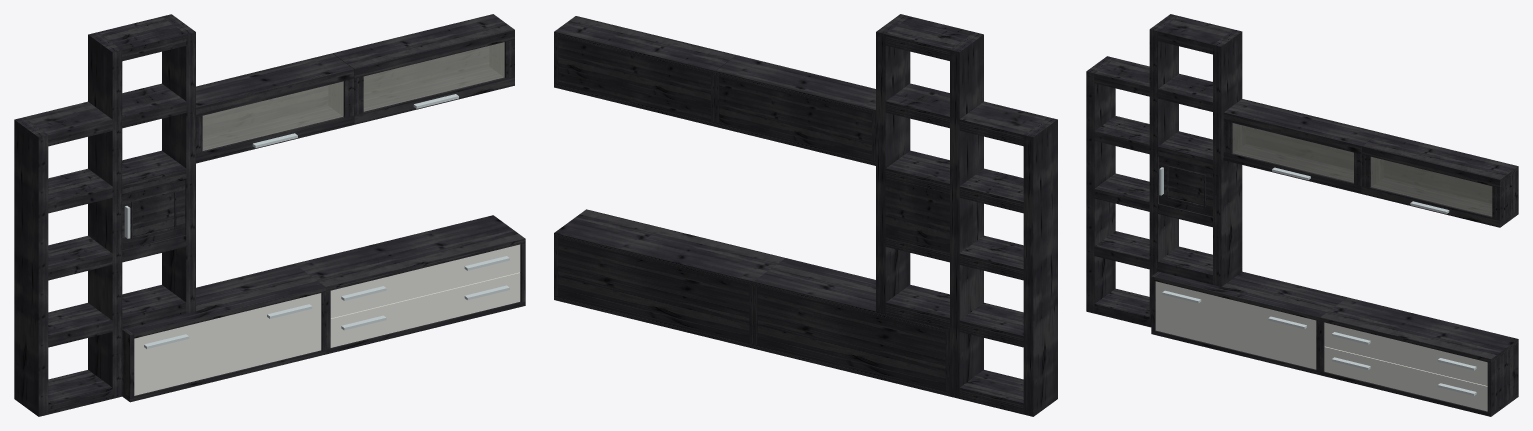
Rendered from TV_Stand_Set_03.fbx.
3 views of the same model, side by side, from view 1: azimuth 30°, elevation 25°; view 2: azimuth 150°, elevation 25°; view 3: azimuth 330°, elevation 25° (orthographic). The views are drawn at different scales.
Parts seen in each view (by area): view 1: TEXTURA_Madera_Oscura, Blanco, Cristal, Metal; view 2: TEXTURA_Madera_Oscura; view 3: TEXTURA_Madera_Oscura, Blanco, Cristal, Metal.
Boxes of the visible parts, <box> form: TEXTURA_Madera_Oscura: <box>14,14,525,416</box>; Blanco: <box>134,244,520,395</box>; Cristal: <box>202,42,504,150</box>; Metal: <box>124,94,509,348</box>; TEXTURA_Madera_Oscura: <box>554,14,1057,416</box>; TEXTURA_Madera_Oscura: <box>1086,14,1518,416</box>; Blanco: <box>1155,281,1487,411</box>; Cristal: <box>1232,123,1492,216</box>; Metal: <box>1159,167,1476,395</box>.
Bounding box in the file's own units: 3.65 × 2.52 × 0.4511.
